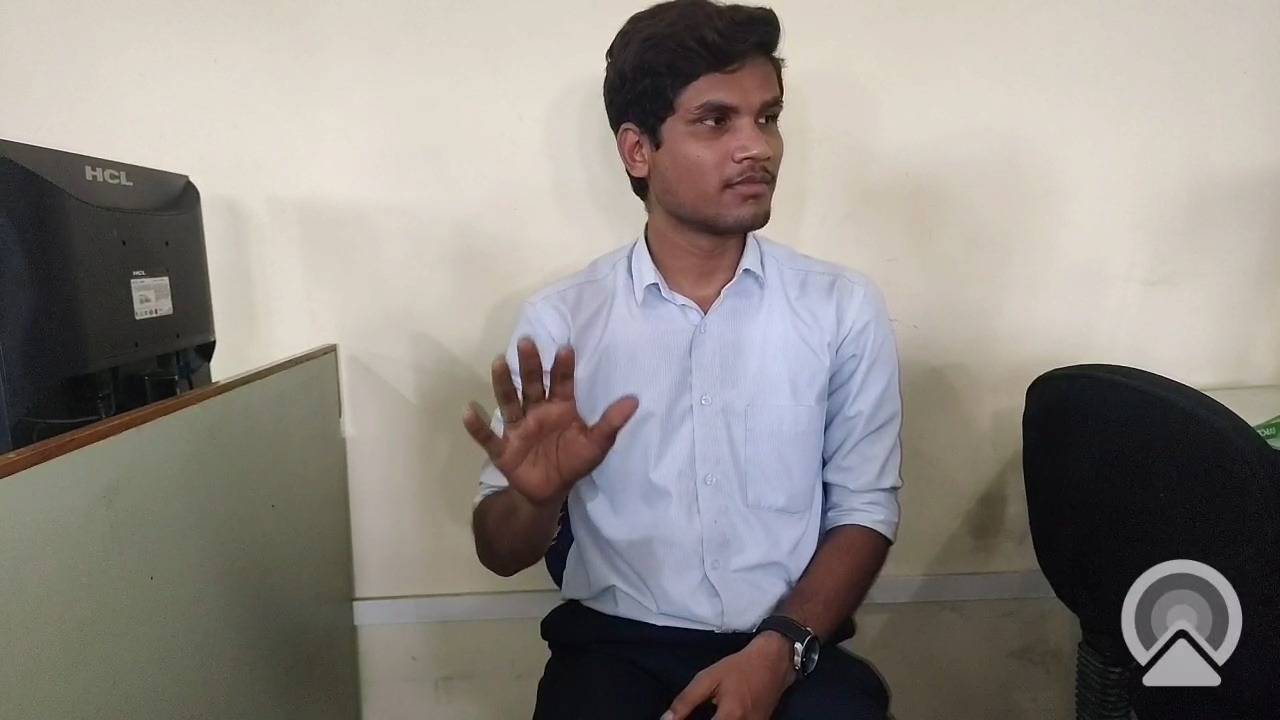Hello: (443, 311, 651, 519)
